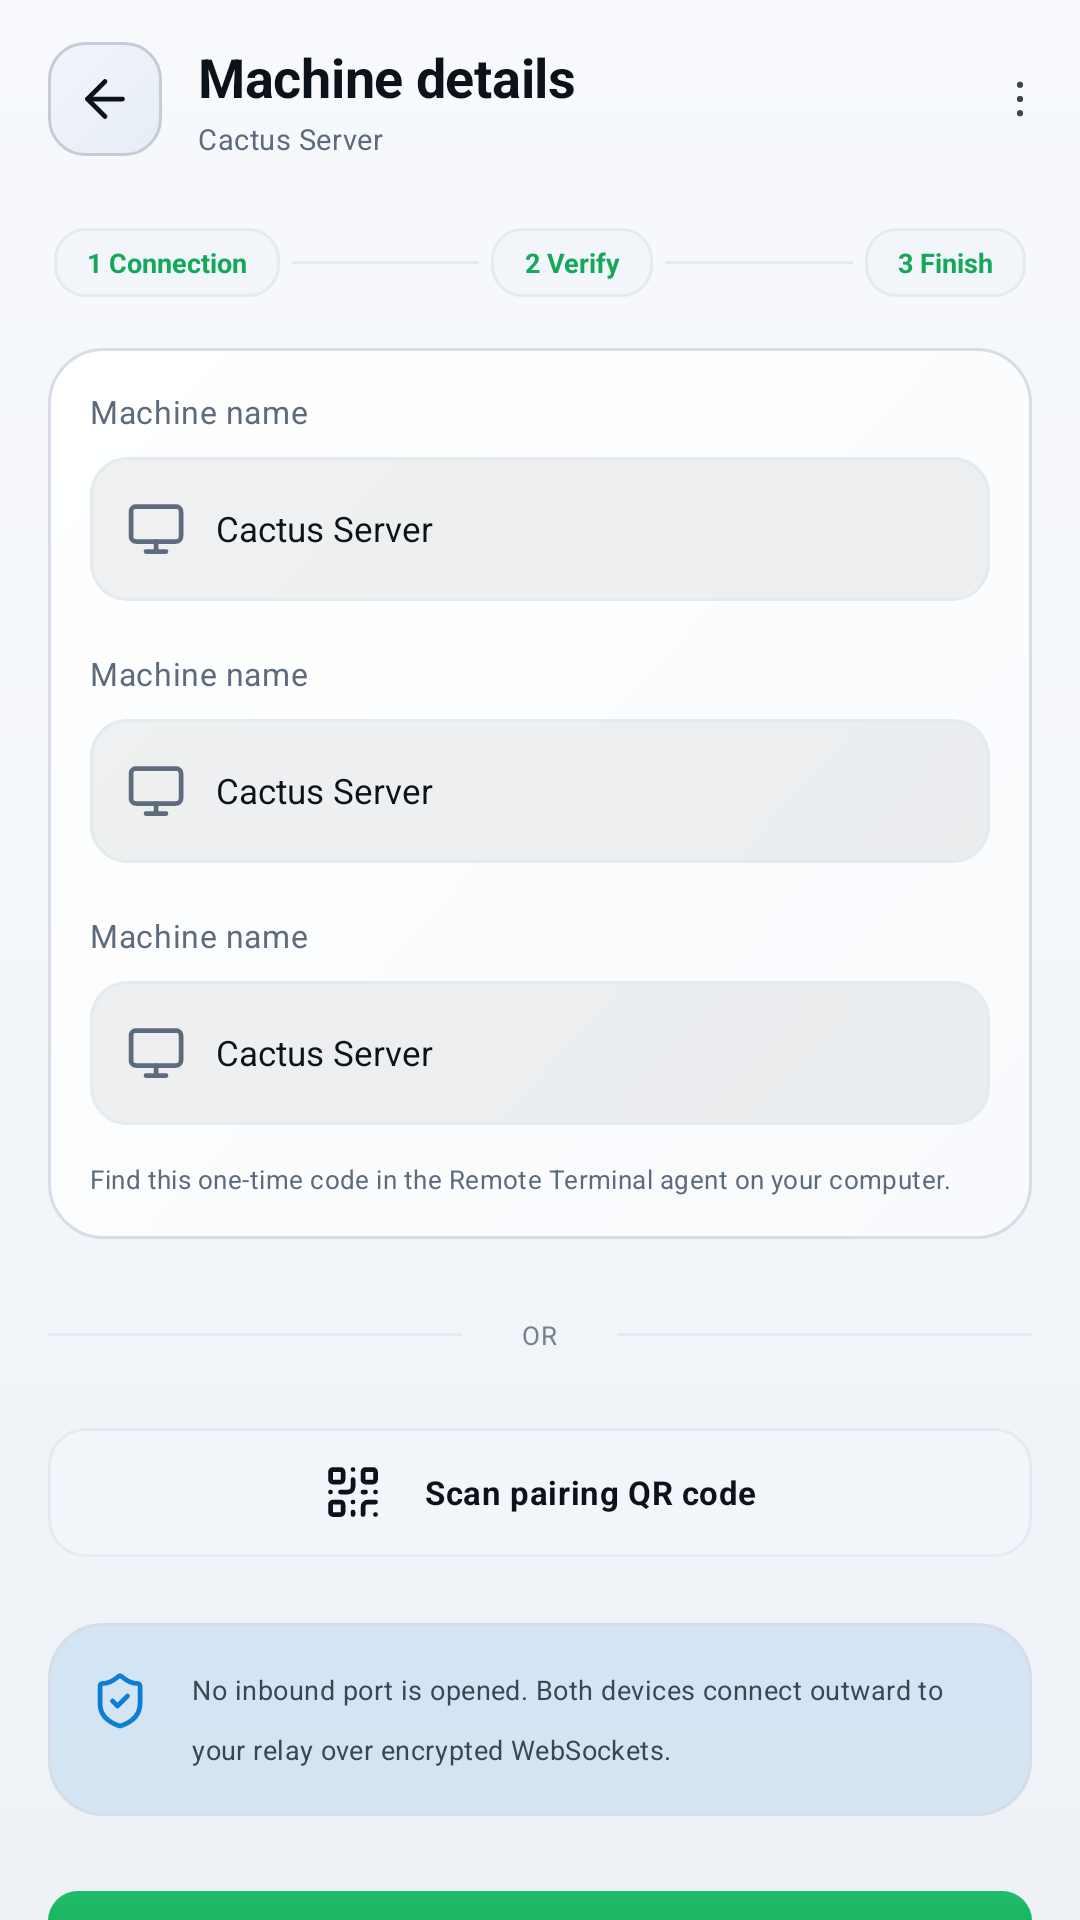

Icons on this 1080px x 1920px Android screen, each with its box as (x1, y1, x2, y2):
Back: (48, 42, 162, 156)
More: (1017, 81, 1023, 117)
shield: (97, 1673, 143, 1729)
